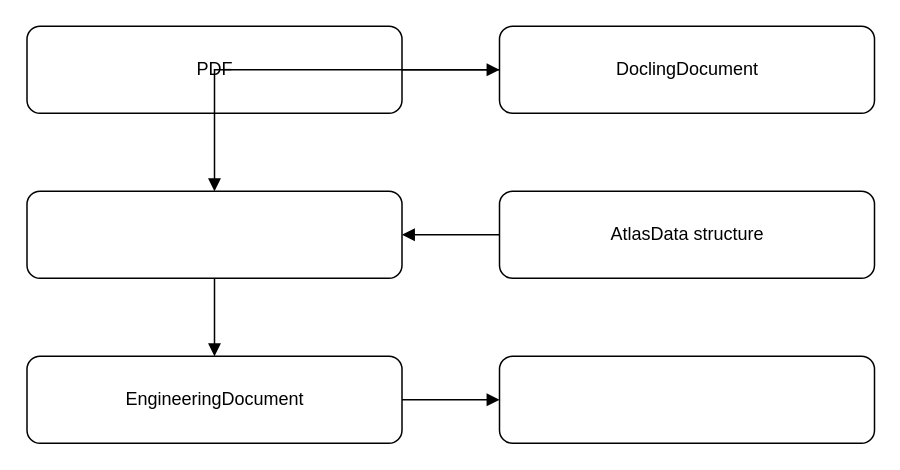
This 900x470 diagram has some shape labels left out. The centre of each missing label's shape, as x and y in pixels:
"Alignment" belongs at point 214,234.
"Clause content" belongs at point 686,399.
